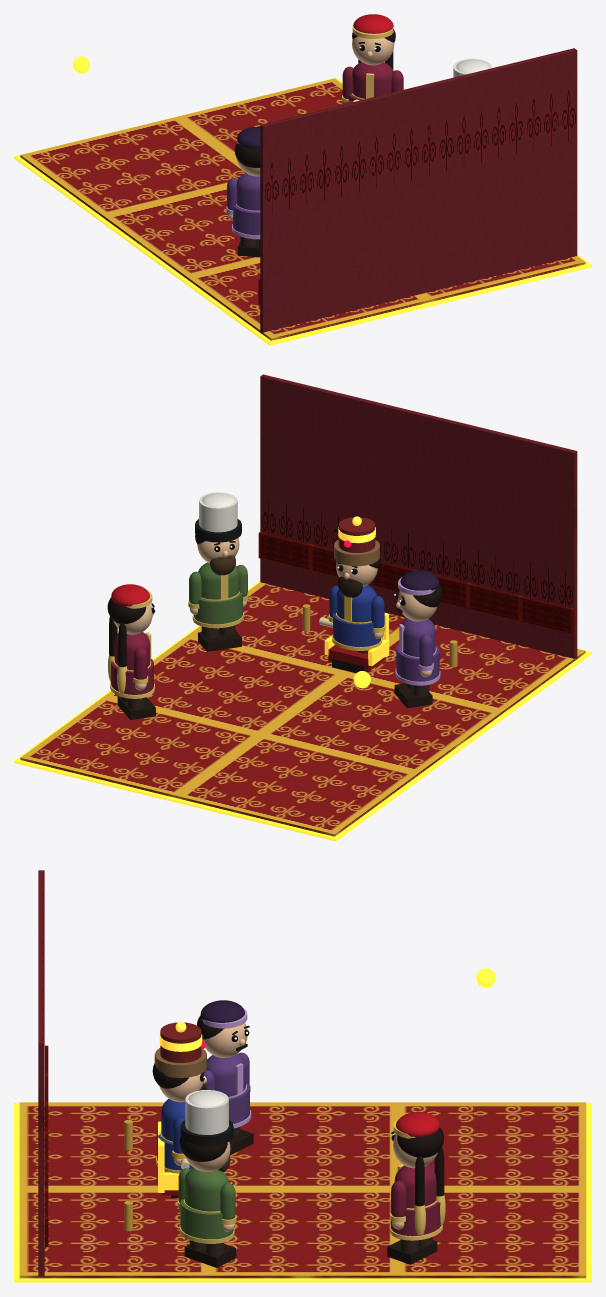
The picture shows the model from 3 angles, top to bottom: view 1: azimuth 30°, elevation 25°; view 2: azimuth 150°, elevation 25°; view 3: azimuth 270°, elevation 25°; orthographic projection. The views are drawn at different scales.
Parts seen in each view (by area): view 1: Орда қабырғасы, Жер, Жиек, Torso (×2), Takiya (×2), Face, Skirt, Hair; view 2: Жер, Орда қабырғасы, Ою, Жиек, Skirt (×4), Torso (×4), Takiya (×2), Kalpak, Crown, Rim, Face, Отырғыш; view 3: Жер, Жиек, Torso (×4), Орда қабырғасы, Skirt (×3), Takiya (×2), Hair (×2), Face (×2), Kalpak, Crown, Sleeve (×2), Rim (+2 smaller).
Boxes of the visible parts, x1=… form: Орда қабырғасы: x1=260, y1=48, x2=577, y2=334; Жер: x1=20, y1=78, x2=585, y2=340; Жиек: x1=14, y1=78, x2=591, y2=345; Torso (×2): x1=236, y1=62, x2=393, y2=210; Takiya (×2): x1=237, y1=14, x2=393, y2=148; Face: x1=352, y1=36, x2=394, y2=65; Skirt: x1=232, y1=205, x2=260, y2=235; Hair: x1=234, y1=143, x2=260, y2=167; Жер: x1=20, y1=582, x2=585, y2=836; Орда қабырғасы: x1=260, y1=374, x2=577, y2=658; Ою: x1=258, y1=532, x2=574, y2=634; Жиек: x1=14, y1=581, x2=591, y2=841; Skirt (×4): x1=111, y1=592, x2=439, y2=694; Torso (×4): x1=114, y1=562, x2=435, y2=670; Takiya (×2): x1=111, y1=570, x2=438, y2=606; Kalpak: x1=199, y1=492, x2=237, y2=532; Crown: x1=338, y1=517, x2=375, y2=552; Rim: x1=334, y1=540, x2=379, y2=566; Face: x1=397, y1=590, x2=437, y2=621; Отырғыш: x1=328, y1=645, x2=385, y2=671; Жер: x1=19, y1=1102, x2=586, y2=1278; Жиек: x1=14, y1=1103, x2=591, y2=1282; Torso (×4): x1=161, y1=1053, x2=436, y2=1211; Орда қабырғасы: x1=38, y1=870, x2=44, y2=1277; Skirt (×3): x1=180, y1=1083, x2=440, y2=1239; Takiya (×2): x1=200, y1=1000, x2=440, y2=1137; Hair (×2): x1=179, y1=1127, x2=443, y2=1161; Face (×2): x1=159, y1=1023, x2=247, y2=1102; Kalpak: x1=185, y1=1090, x2=228, y2=1134; Crown: x1=160, y1=1022, x2=201, y2=1062; Sleeve (×2): x1=220, y1=1180, x2=406, y2=1219; Rim: x1=154, y1=1048, x2=206, y2=1077.
Size of the model in its own units: 0.9635 by 0.6006 by 1.33.
35 materials, 3 textured.
